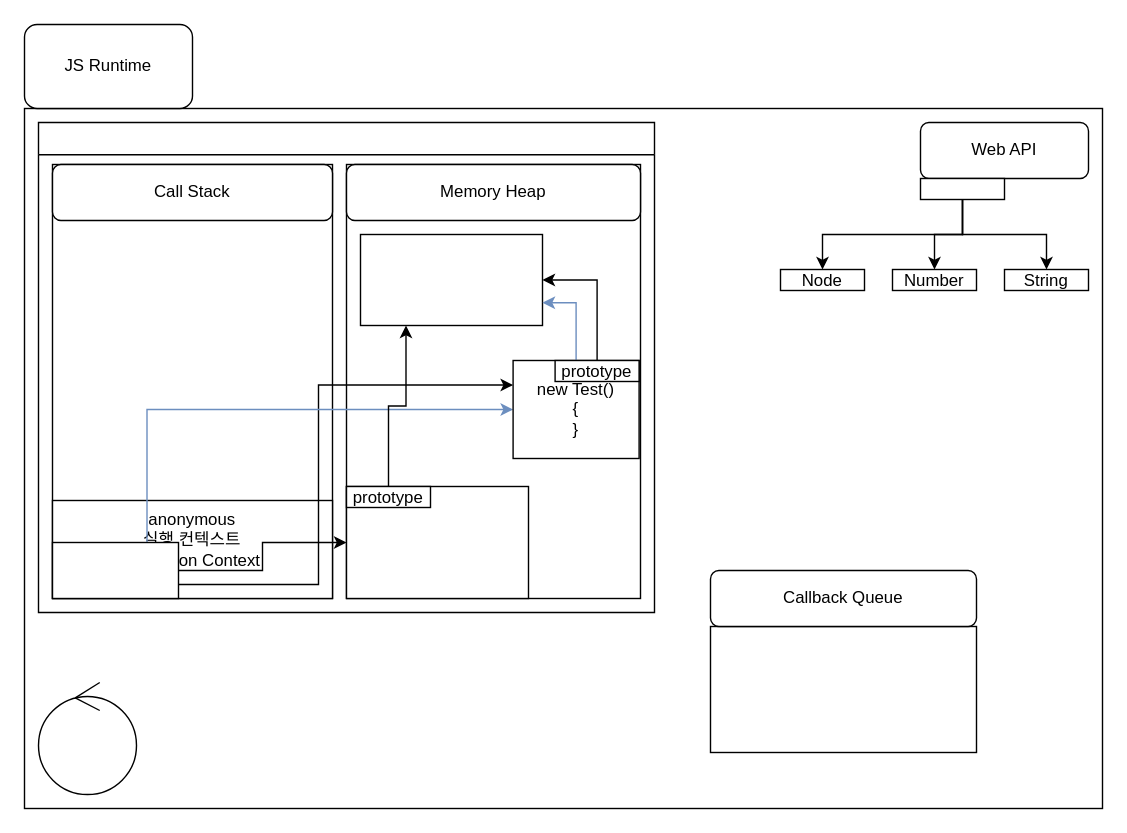
Image size: 1127x833. Some labels were removed from this diagram. Here are the shapes that lost their labels. From the top down, the box of each, then its label:
(919, 177, 1004, 200): Object
(359, 233, 542, 326): { func(){ } }
(37, 121, 654, 612): Javascript Engine
(345, 485, 528, 598): function Test(){ this.testset }
(51, 541, 178, 598): function Test const test test.func()
(37, 681, 136, 794): Event Loop
